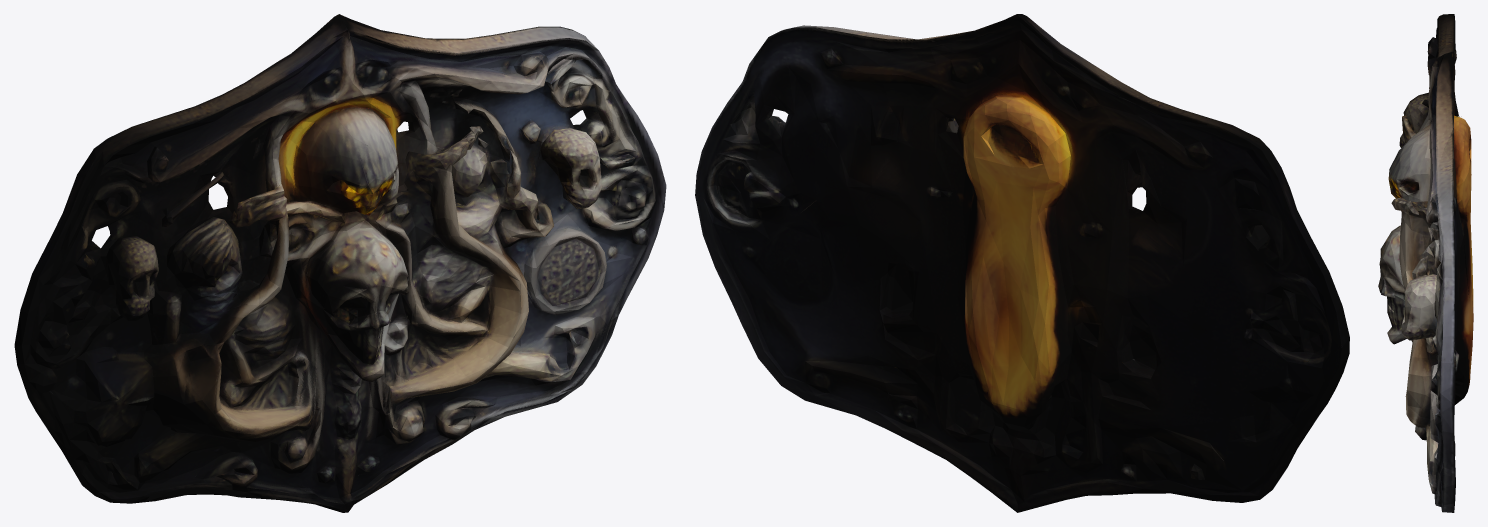
Rendered from wooden-belt-buckle-horror.jpeg.glb.
3 renders of one model, left to right at view 1: azimuth 30°, elevation 25°; view 2: azimuth 150°, elevation 25°; view 3: azimuth 270°, elevation 25°, orthographic. The views are drawn at different scales.
Visible parts, largest first — view 1: world; view 2: world; view 3: world.
Part boxes in pixels (<box>): world: <box>14,14,666,512</box>; world: <box>695,14,1349,512</box>; world: <box>1378,14,1473,512</box>.
Size of the model in its own units: 0.9948 by 0.732 by 0.1494.
Materials: 1 (1 with a texture image).
